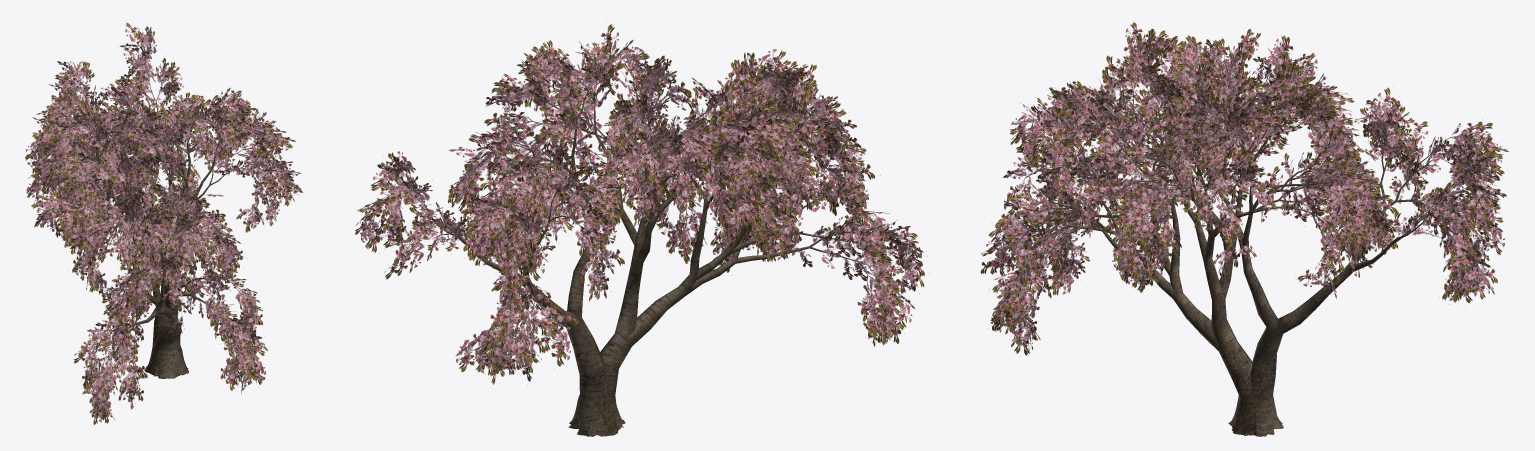
The model's file is tree_sakura.glb.
The picture shows the model from 3 angles, left to right: view 1: azimuth 30°, elevation 25°; view 2: azimuth 150°, elevation 25°; view 3: azimuth 270°, elevation 25°; orthographic projection. The views are drawn at different scales.
Parts seen in each view (by area): view 1: Object_2, Object_3; view 2: Object_2, Object_3; view 3: Object_2, Object_3.
Part boxes in pixels (x1,y1,x2,y2): Object_2: (25,22,302,425); Object_3: (39,47,278,385); Object_2: (355,21,929,386); Object_3: (371,53,908,436); Object_2: (980,19,1508,356); Object_3: (999,58,1486,436).
Bounding box in the file's own units: 2.11 × 2.05 × 2.75.
2 materials, 2 textured.
